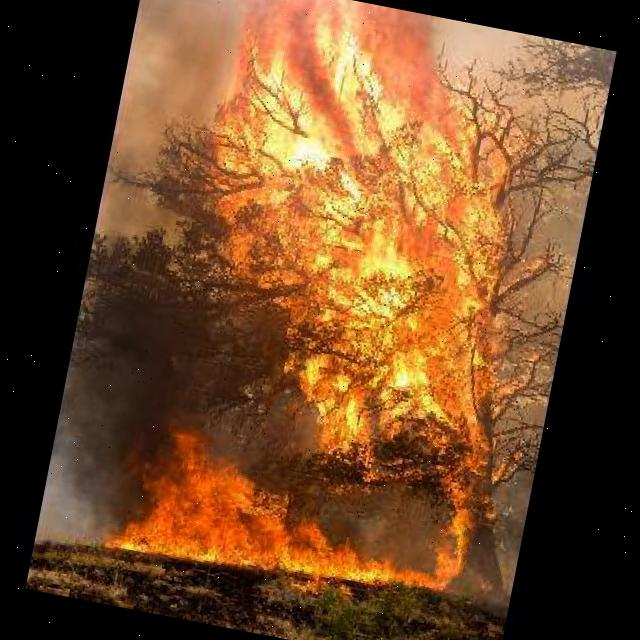fire: (107, 0, 583, 605)
